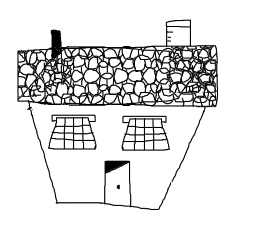chimney: (158, 14, 192, 50), (46, 23, 65, 53)
closed_window: (110, 109, 175, 158), (48, 105, 99, 158)
door: (98, 153, 137, 209)
roof: (6, 42, 228, 107)
wall: (23, 104, 208, 217)
